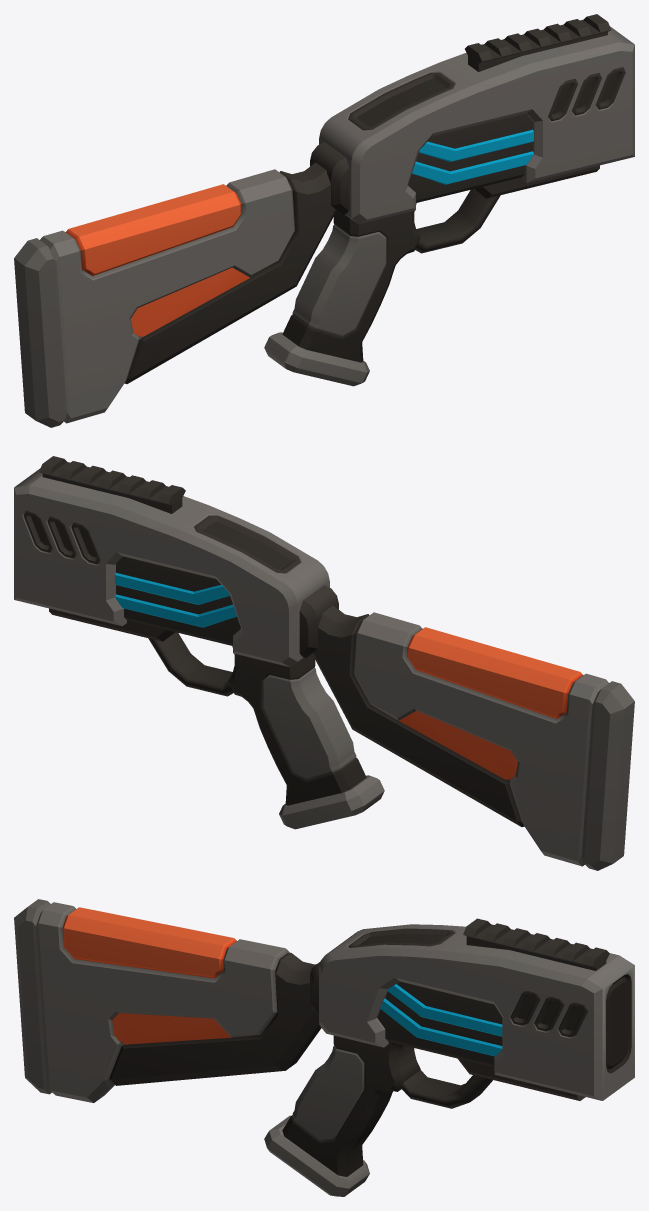
File: Shotgun5_Base.fbx
3 renders of one model, top to bottom at view 1: azimuth 30°, elevation 25°; view 2: azimuth 150°, elevation 25°; view 3: azimuth 330°, elevation 25°, orthographic.
Parts seen in each view (by area): view 1: Shotgun5_Base; view 2: Shotgun5_Base; view 3: Shotgun5_Base.
Boxes of the visible parts, box(x1,y1,x2,y2) form: Shotgun5_Base: box(14, 14, 634, 427); Shotgun5_Base: box(14, 456, 634, 870); Shotgun5_Base: box(14, 899, 634, 1196).
Size of the model in its own units: 51.8 by 24.69 by 5.77.
